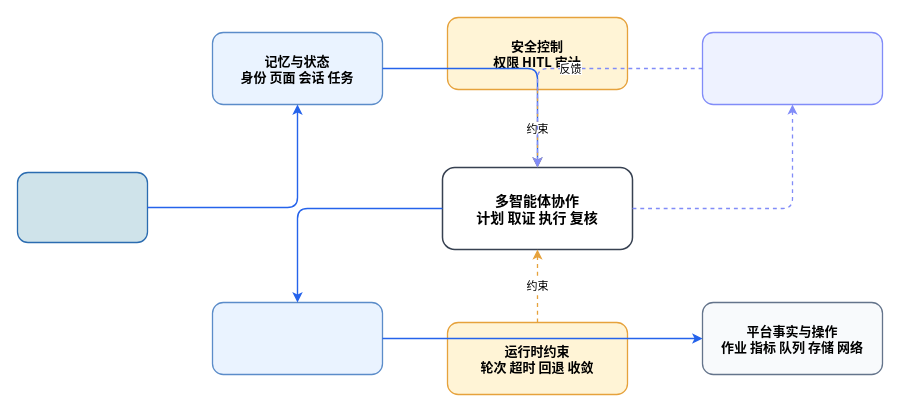
The diagram is 901 pixels wide and 413 high, and some of its shapes have lost their labels. Here are the shapes that lost their labels. From the top down, the box of each, then its label:
(701, 31, 883, 105): 质量评估 轨迹 证据 安全 反馈
(16, 171, 148, 243): 用户请求 页面上下文
(211, 301, 383, 375): 工具体系 声明 过滤 适配 结果
